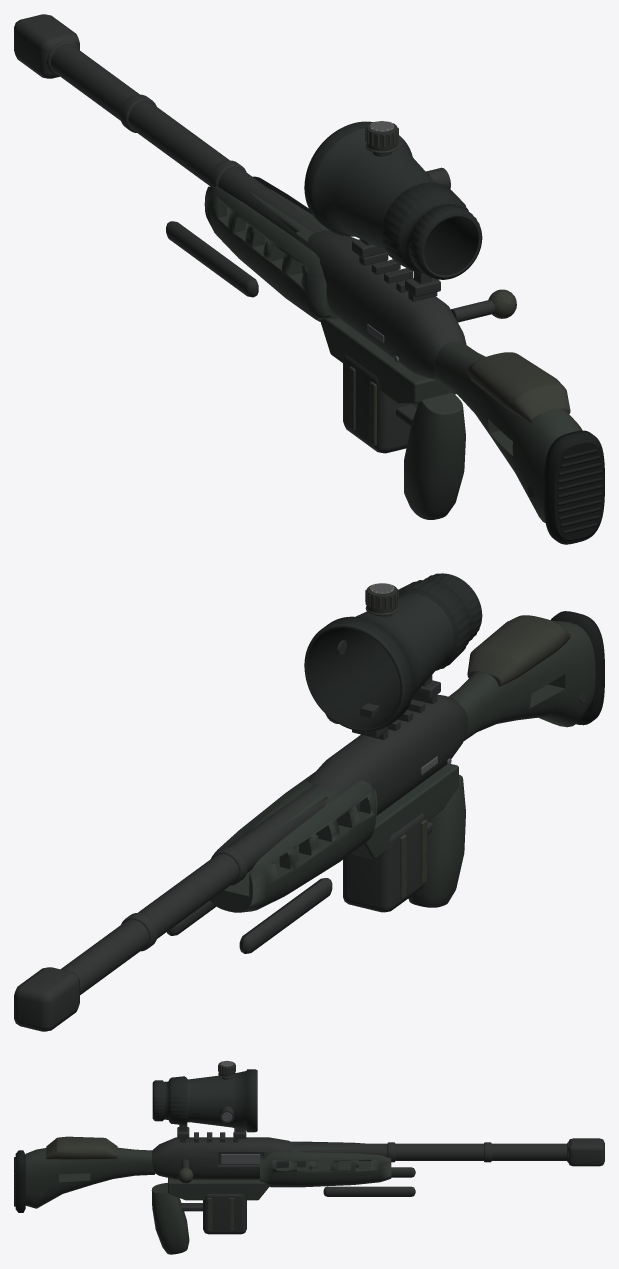
Rendered from marksman.glb.
3 views of the same model, one above another, from view 1: azimuth 30°, elevation 25°; view 2: azimuth 150°, elevation 25°; view 3: azimuth 270°, elevation 25° (orthographic). The views are drawn at different scales.
Visible parts, largest first — view 1: WeaponBody, Butt stock, Butt plate, Magazine; view 2: WeaponBody, Butt stock, Magazine, Butt plate; view 3: WeaponBody, Butt stock, Magazine, Butt plate.
Part boxes in pixels (x1,y1,x2,y2): WeaponBody: (14,14,570,519); Butt stock: (433,341,582,522); Butt plate: (544,430,604,544); Magazine: (343,354,418,453); WeaponBody: (14,573,587,1031); Butt stock: (448,620,595,740); Magazine: (343,813,426,912); Butt plate: (550,611,604,725); WeaponBody: (35,1060,604,1254); Butt stock: (25,1147,154,1208); Magazine: (203,1194,246,1234); Butt plate: (14,1150,25,1212).
Bounding box in the file's own units: 0.205 × 0.4754 × 1.35.
Materials: 9 (1 with a texture image).
